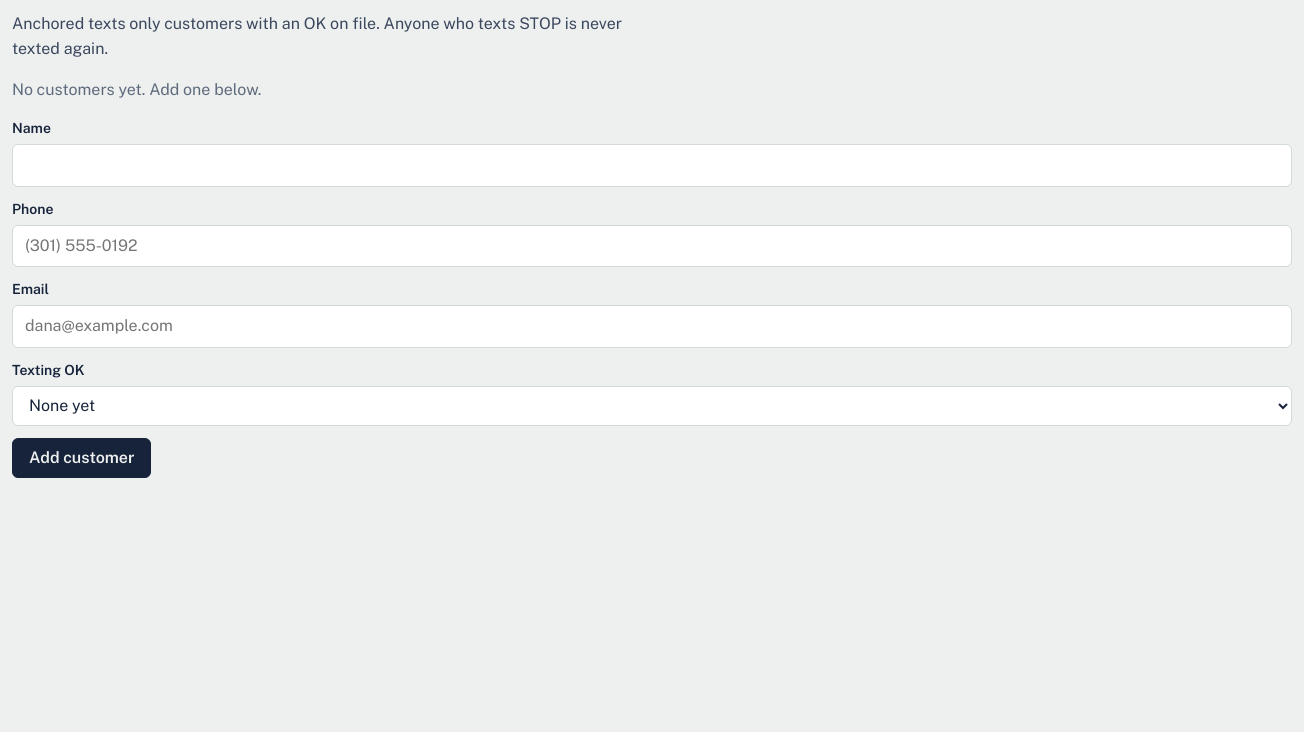
Test: ContactsList › adds a customer and shows them in the list
The image size is (1304, 732).
In the field labelled "Name": (652, 166) [12,144,1292,187], type "Dana Lewis"
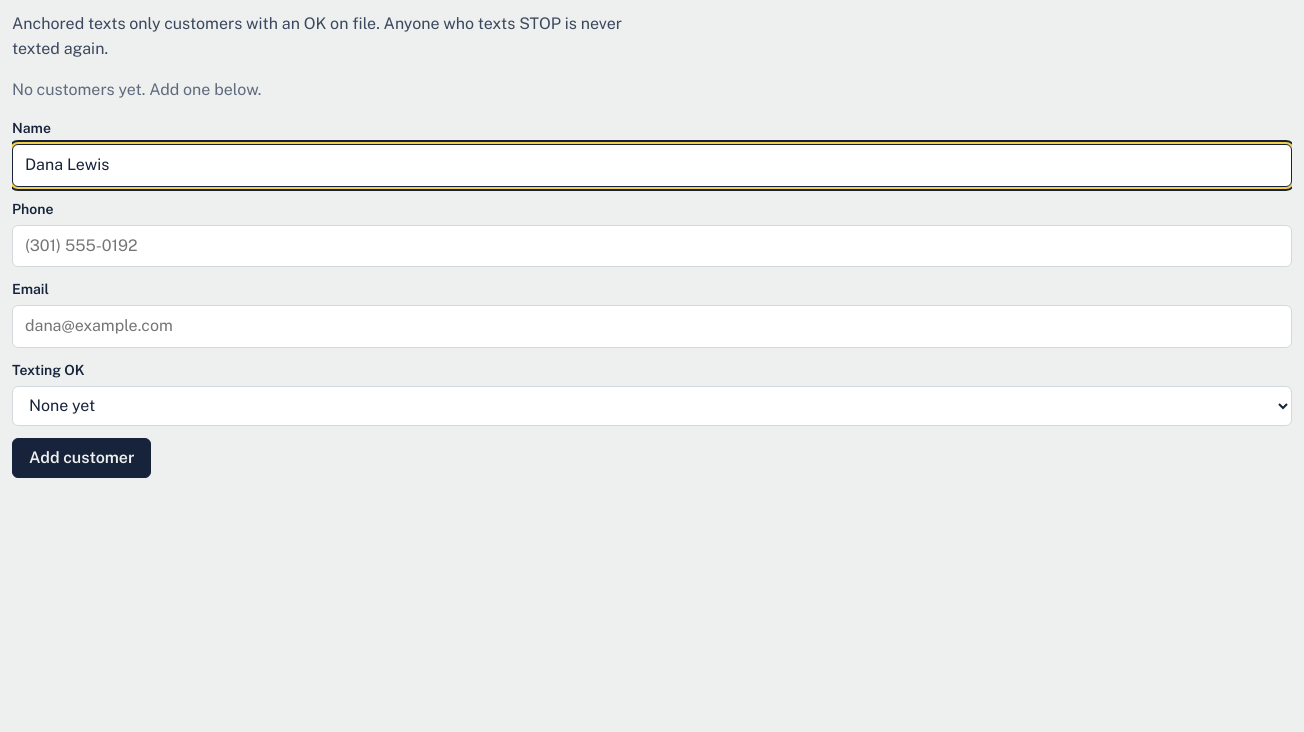
In the field labelled "Phone": (652, 246) [12,225,1292,267], type "(410) 555-0137"
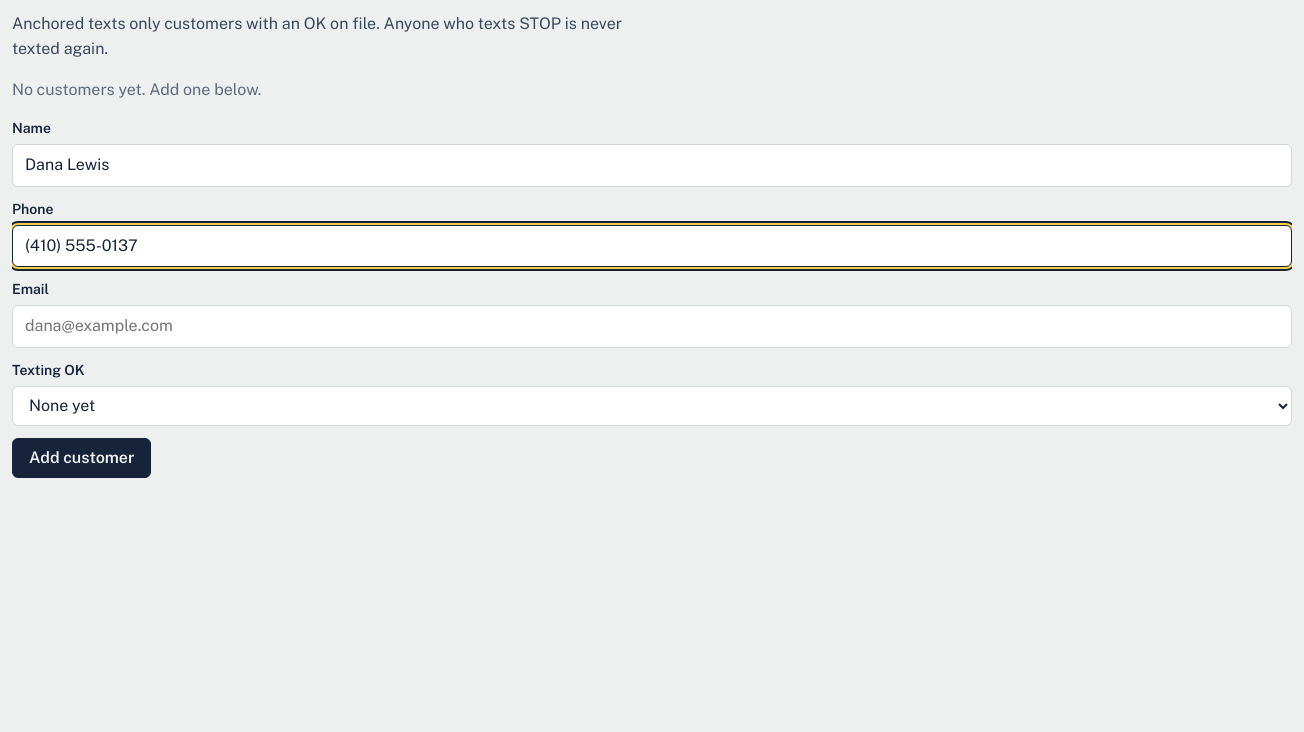
Select "Said yes in person" in the dropdown labelled "Texting OK": (652, 406) [12,386,1292,426]
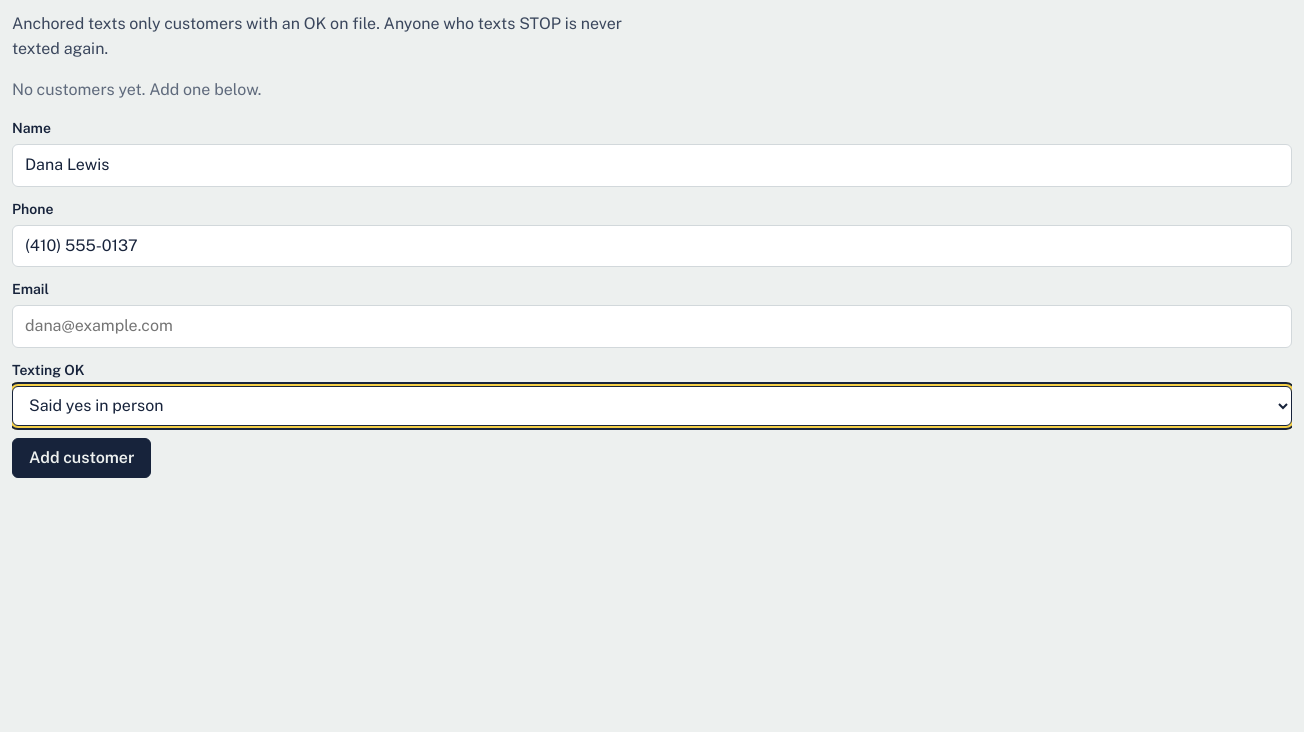
Click the button "Add customer": (82, 458) [12,438,152,478]
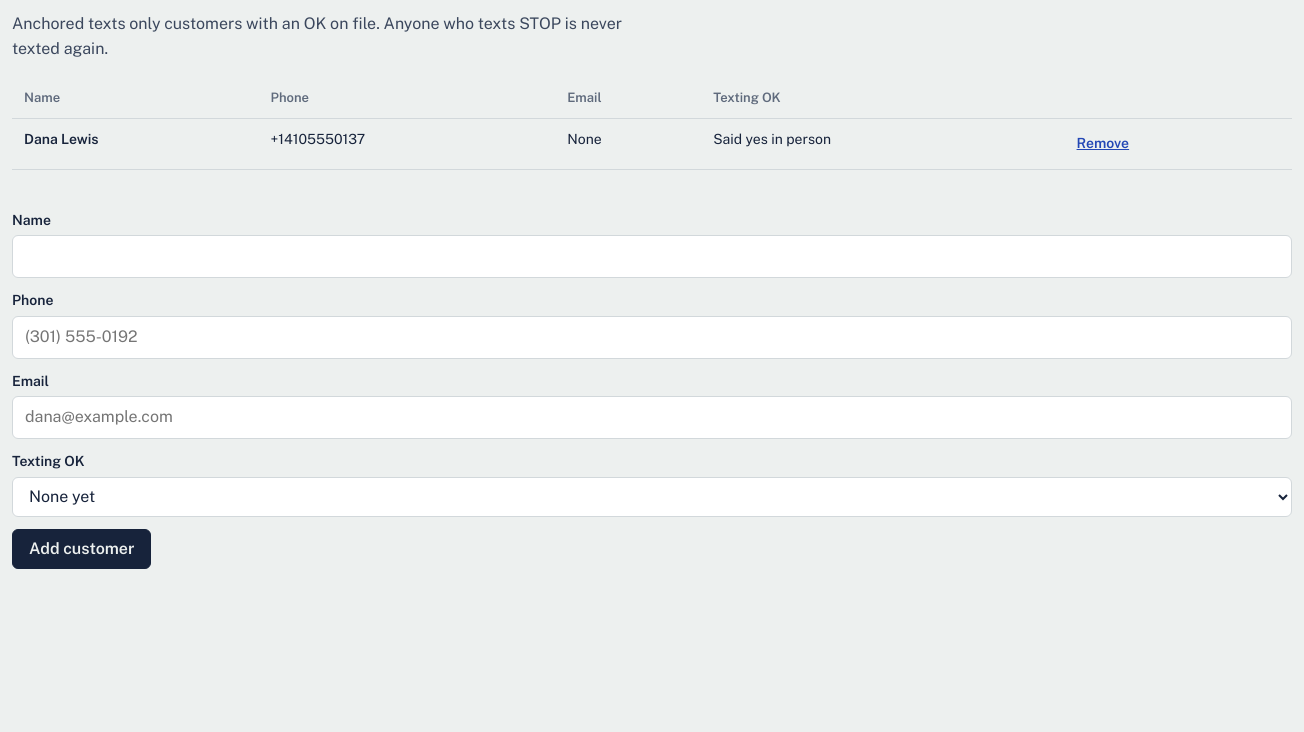
Now the row "Dana Lewis +14105550137 None Said yes in person Remove" is shown, box [12,118,1292,169]
